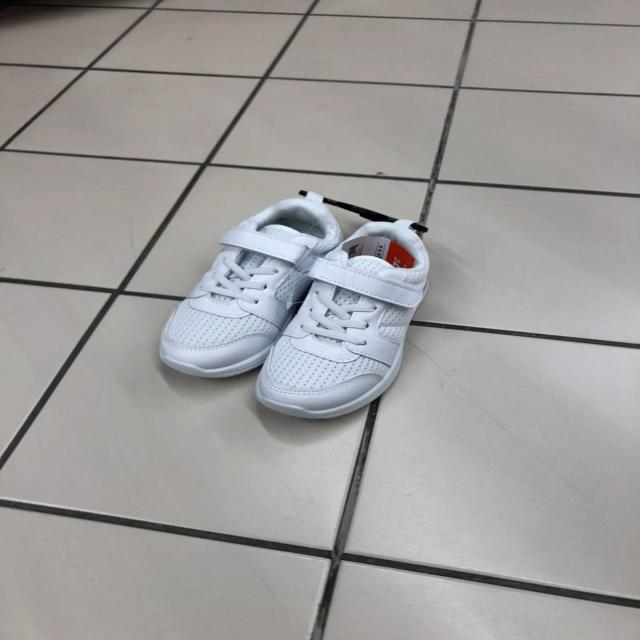shoe: (158, 193, 380, 383), (254, 218, 431, 425)
